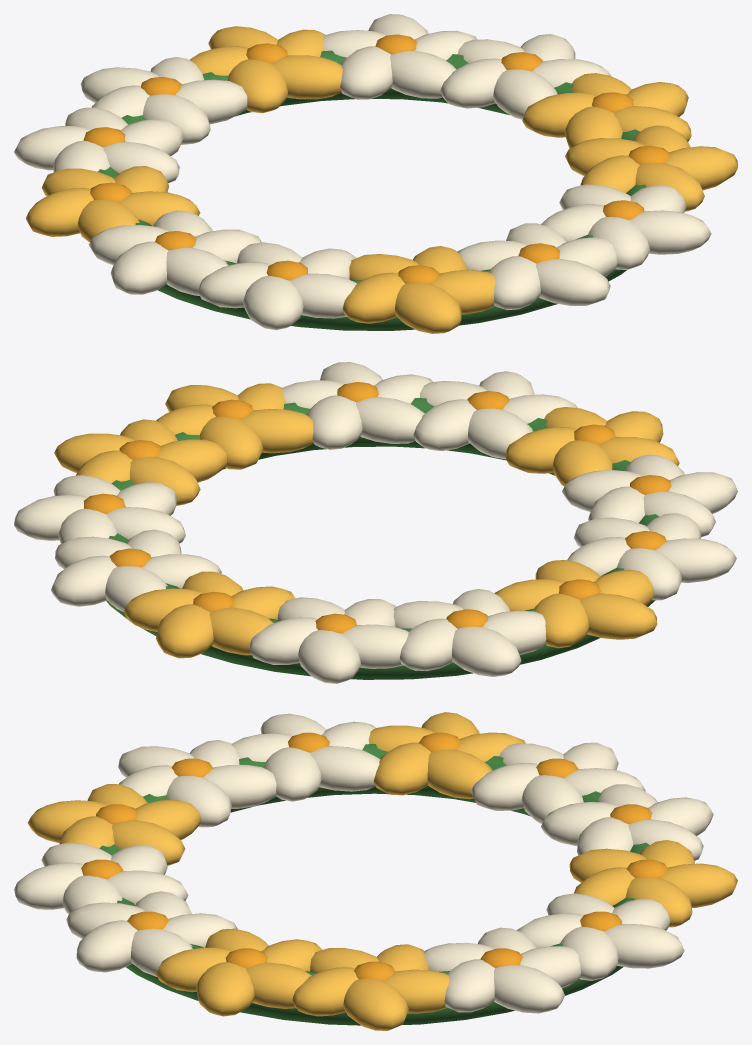
File: lei.glb
3 views of the same model, one above another, from view 1: azimuth 30°, elevation 25°; view 2: azimuth 150°, elevation 25°; view 3: azimuth 270°, elevation 25° (orthographic).
Parts seen in each view (by area): view 1: lei; view 2: lei; view 3: lei.
Part boxes in pixels (x1,y1,x2,y2): lei: (14, 14, 737, 333); lei: (14, 362, 737, 683); lei: (14, 712, 737, 1030).
Bounding box in the file's own units: 1.21 × 0.111 × 1.21.
